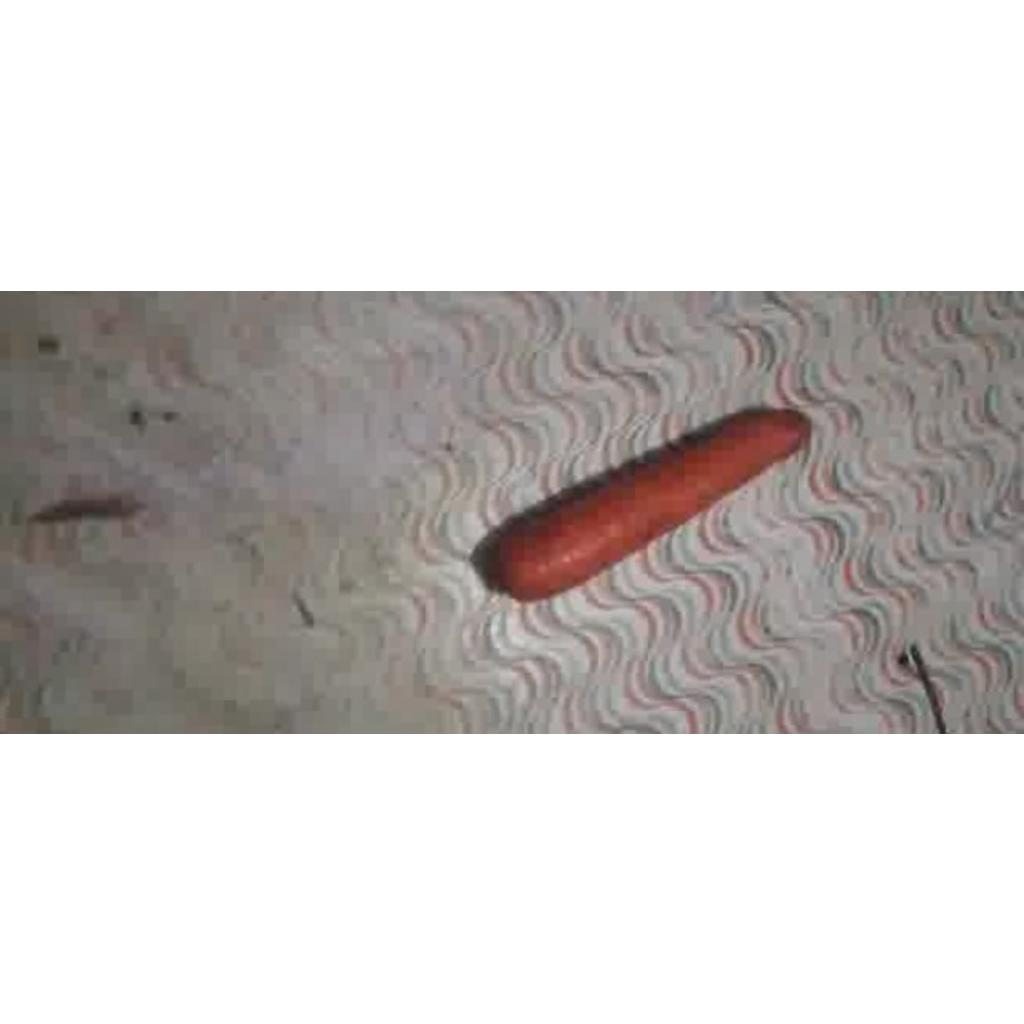carrot: (472, 408, 810, 600)
